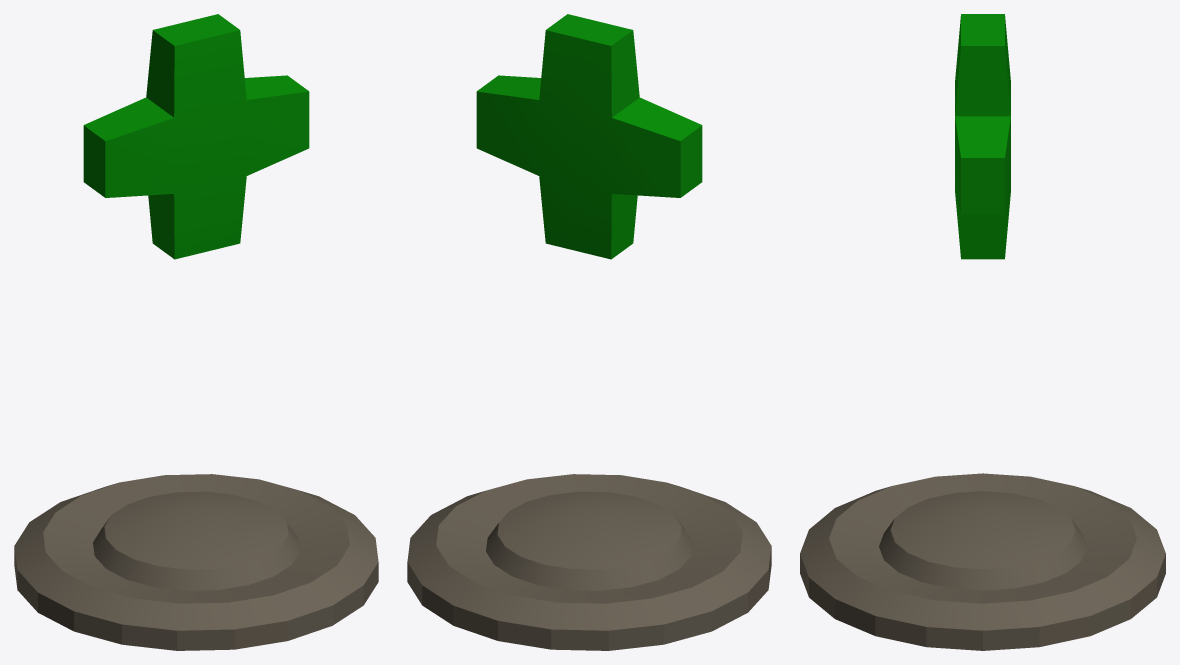
File: HealthBonus.fbx
The picture shows the model from 3 angles, left to right: view 1: azimuth 30°, elevation 25°; view 2: azimuth 150°, elevation 25°; view 3: azimuth 270°, elevation 25°; orthographic projection.
Visible parts, largest first — view 1: Base, HealthBonus; view 2: Base, HealthBonus; view 3: Base, HealthBonus.
Part boxes in pixels (x1,y1,x2,y2): Base: (14,474,378,650); HealthBonus: (83,14,309,259); Base: (407,474,771,650); HealthBonus: (476,14,702,259); Base: (800,473,1165,650); HealthBonus: (955,14,1010,259).
Bounding box in the file's own units: 60.25 × 98.77 × 60.25.
